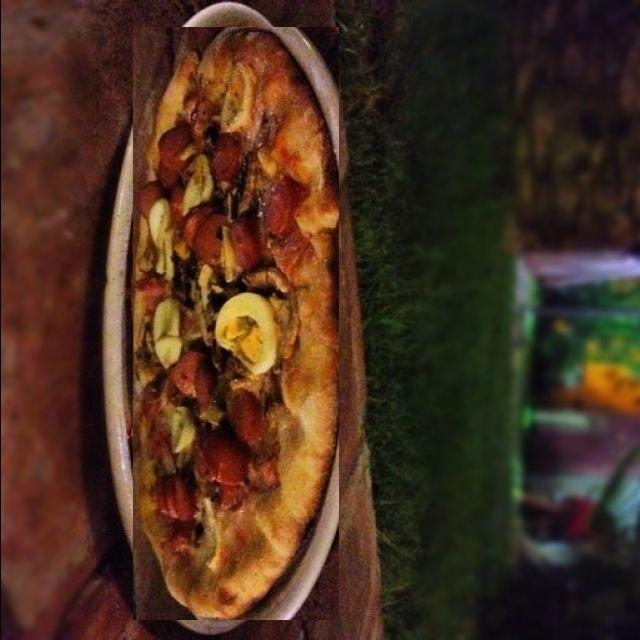pizza: (132, 27, 338, 620)
